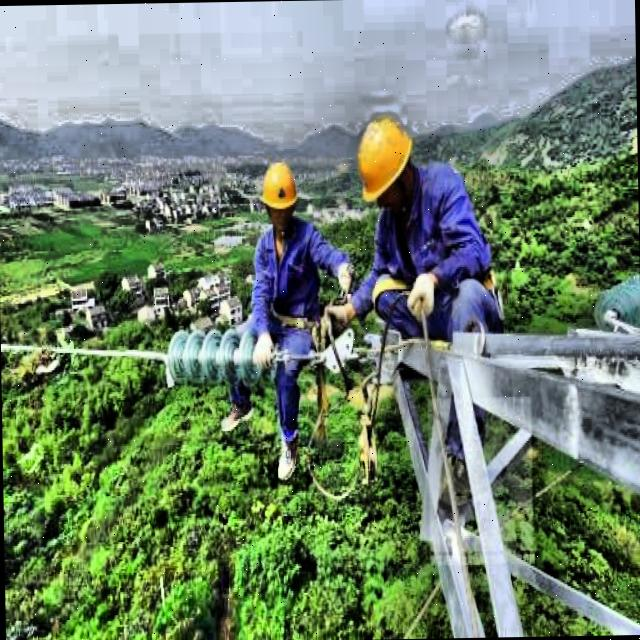helmet: (348, 105, 421, 222), (256, 154, 303, 234)
